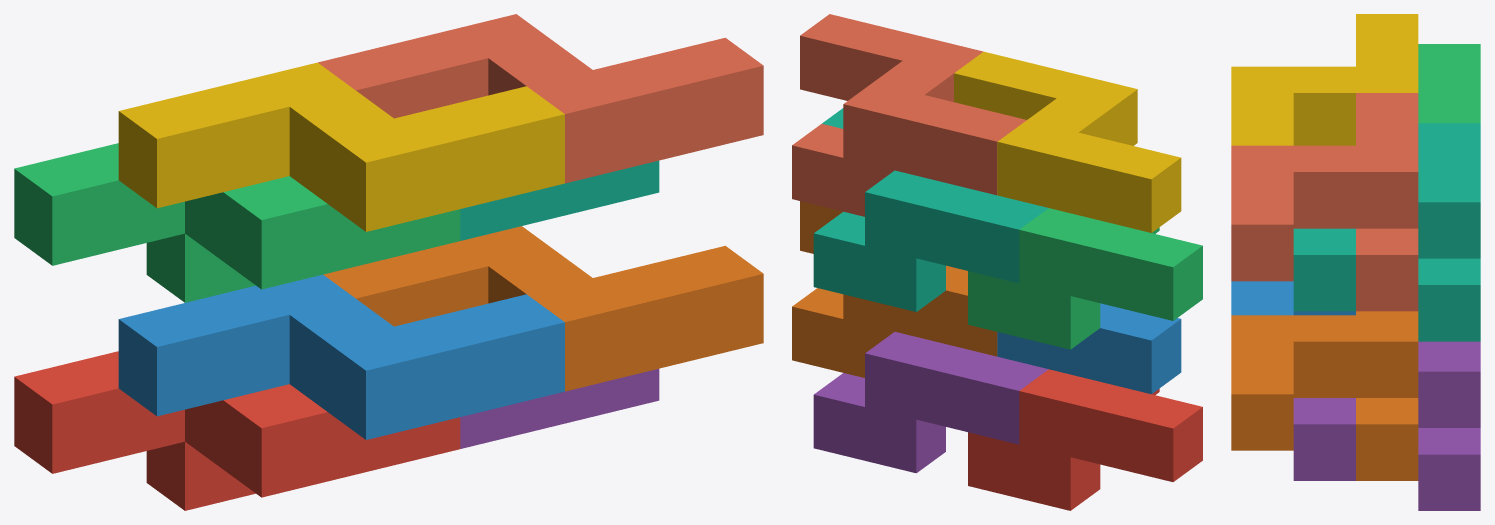
Rendered from tiling.obj.
The picture shows the model from 3 angles, left to right: view 1: azimuth 30°, elevation 25°; view 2: azimuth 150°, elevation 25°; view 3: azimuth 270°, elevation 25°; orthographic projection. The views are drawn at different scales.
Parts seen in each view (by area): view 1: copy_1_domain_4, copy_1_domain_2, copy_1_domain_8, copy_1_domain_6, copy_1_domain_3, copy_1_domain_1, copy_1_domain_5, copy_1_domain_7; view 2: copy_1_domain_8, copy_1_domain_4, copy_1_domain_1, copy_1_domain_3, copy_1_domain_7, copy_1_domain_5, copy_1_domain_6, copy_1_domain_2; view 3: copy_1_domain_8, copy_1_domain_6, copy_1_domain_7, copy_1_domain_5, copy_1_domain_4, copy_1_domain_3, copy_1_domain_2.
Part boxes in pixels (x1,y1,x2,y2): copy_1_domain_4: [118, 62, 564, 231]; copy_1_domain_2: [118, 274, 564, 439]; copy_1_domain_8: [318, 14, 763, 183]; copy_1_domain_6: [323, 226, 763, 391]; copy_1_domain_3: [14, 143, 460, 302]; copy_1_domain_1: [14, 351, 460, 510]; copy_1_domain_5: [460, 368, 659, 448]; copy_1_domain_7: [460, 160, 659, 240]; copy_1_domain_8: [792, 14, 1026, 216]; copy_1_domain_4: [954, 51, 1181, 232]; copy_1_domain_1: [968, 369, 1202, 510]; copy_1_domain_3: [968, 208, 1202, 349]; copy_1_domain_7: [813, 108, 1048, 311]; copy_1_domain_5: [813, 332, 1048, 473]; copy_1_domain_6: [792, 201, 997, 377]; copy_1_domain_2: [997, 303, 1181, 394]; copy_1_domain_8: [1231, 93, 1418, 311]; copy_1_domain_6: [1231, 311, 1418, 480]; copy_1_domain_7: [1293, 123, 1480, 341]; copy_1_domain_5: [1293, 341, 1480, 510]; copy_1_domain_4: [1231, 14, 1418, 145]; copy_1_domain_3: [1418, 44, 1480, 123]; copy_1_domain_2: [1231, 281, 1355, 315].
Bounding box in the file's own units: 9 × 6 × 4.
